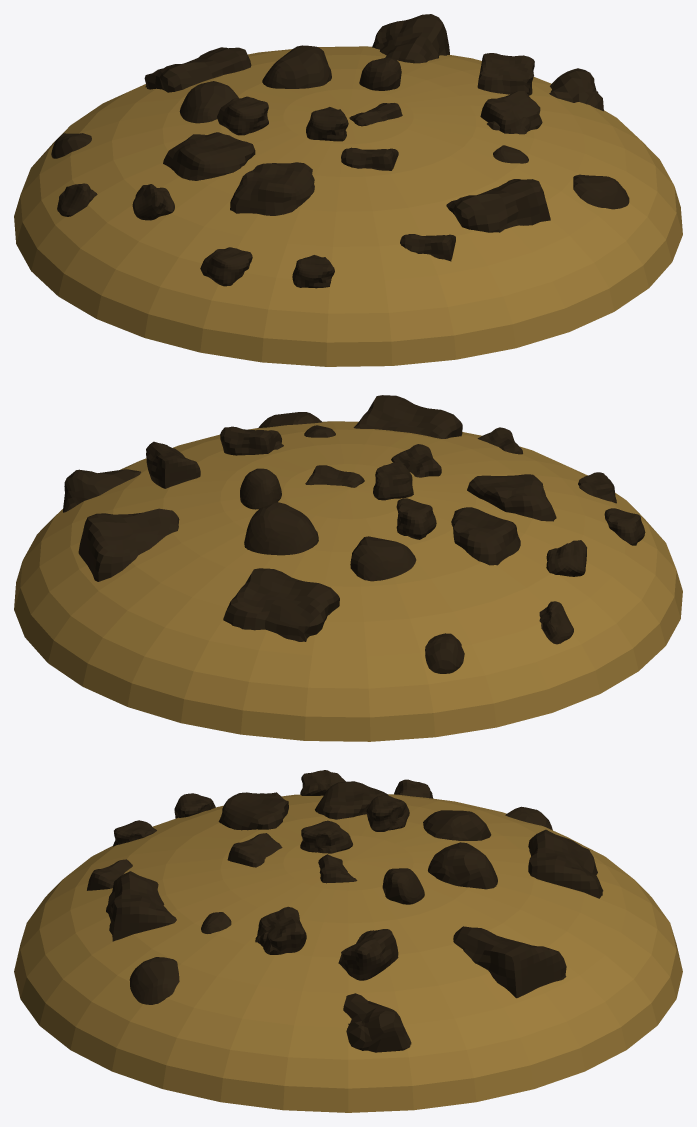
File: cookie.fbx
3 views of the same model, one above another, from view 1: azimuth 30°, elevation 25°; view 2: azimuth 150°, elevation 25°; view 3: azimuth 270°, elevation 25° (orthographic).
Parts seen in each view (by area): view 1: Sphere, Cube.014, Cube.006, Cube.013, Cube.005, Cube.010, Cube.012, Cube.018, Cube.016, Cube.007, Cube.008, Cube.011 (+11 smaller); view 2: Sphere, Cube.010, Cube.005, Cube.012, Cube.014, Cube.013, Cube.006, Cube.007, Cube.018, Cube.015, Cube.016, Cube.004 (+11 smaller); view 3: Sphere, Cube.005, Cube.010, Cube.014, Cube.015, Cube.012, Cube.006, Cube.018, Cube.011, Cube.013, Cube.016, Cube.007 (+11 smaller).
Part boxes in pixels (<box>): Sphere: <box>14,46,682,366</box>; Cube.014: <box>446,179,550,232</box>; Cube.006: <box>230,162,314,215</box>; Cube.013: <box>163,132,255,180</box>; Cube.005: <box>372,14,449,63</box>; Cube.010: <box>144,47,251,92</box>; Cube.012: <box>262,45,331,88</box>; Cube.018: <box>477,53,534,95</box>; Cube.016: <box>480,91,542,133</box>; Cube.007: <box>179,81,238,123</box>; Cube.008: <box>217,96,268,135</box>; Cube.011: <box>573,174,629,209</box>; Sphere: <box>14,421,682,741</box>; Cube.010: <box>223,568,339,641</box>; Cube.005: <box>78,508,179,581</box>; Cube.012: <box>244,502,318,555</box>; Cube.014: <box>353,395,462,438</box>; Cube.013: <box>451,507,520,565</box>; Cube.006: <box>467,474,556,521</box>; Cube.007: <box>350,536,416,581</box>; Cube.018: <box>146,441,200,488</box>; Cube.015: <box>63,469,140,512</box>; Cube.016: <box>220,426,281,455</box>; Cube.004: <box>240,468,281,509</box>; Sphere: <box>14,794,682,1112</box>; Cube.005: <box>453,926,566,998</box>; Cube.010: <box>528,829,603,898</box>; Cube.014: <box>106,871,176,941</box>; Cube.015: <box>343,993,411,1052</box>; Cube.012: <box>428,842,497,889</box>; Cube.006: <box>218,792,288,830</box>; Cube.018: <box>338,929,398,980</box>; Cube.011: <box>129,957,179,1004</box>; Cube.013: <box>315,781,388,819</box>; Cube.016: <box>257,906,306,954</box>; Cube.007: <box>423,810,491,840</box>.
Bounding box in the file's own units: 200 × 45.04 × 200.
